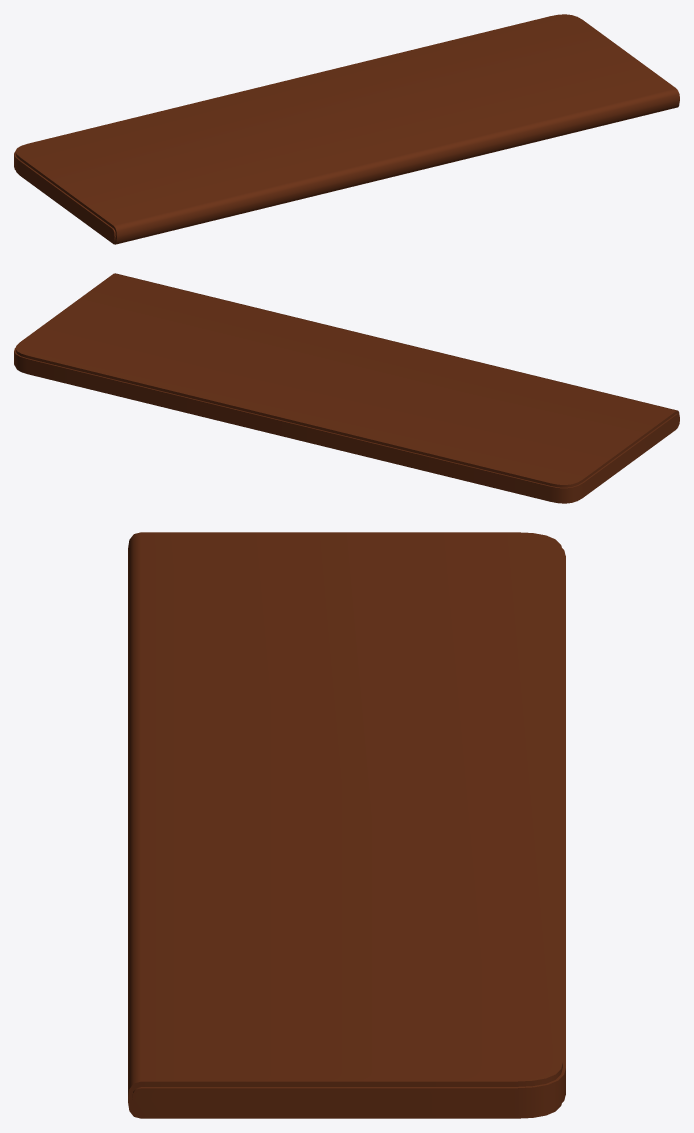
The model's file is clavier.FBX.
The picture shows the model from 3 angles, top to bottom: view 1: azimuth 30°, elevation 25°; view 2: azimuth 150°, elevation 25°; view 3: azimuth 270°, elevation 25°; orthographic projection. The views are drawn at different scales.
Visible parts, largest first — view 1: clavier; view 2: clavier; view 3: clavier.
Part boxes in pixels (x1,y1,x2,y2): clavier: [14, 14, 679, 244]; clavier: [14, 273, 679, 503]; clavier: [128, 532, 565, 1118].
Size of the model in its own units: 17.76 by 0.5574 by 5.96.
